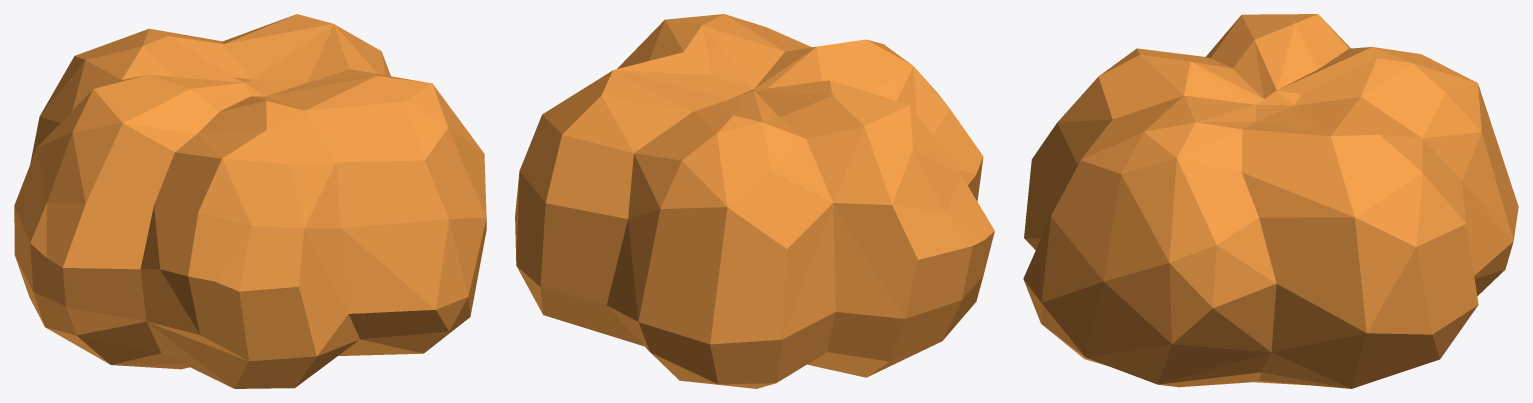
The model's file is pumpkin.fbx.
3 renders of one model, left to right at view 1: azimuth 30°, elevation 25°; view 2: azimuth 150°, elevation 25°; view 3: azimuth 270°, elevation 25°, orthographic. The views are drawn at different scales.
Visible parts, largest first — view 1: pumpkin; view 2: pumpkin; view 3: pumpkin.
Part boxes in pixels (x1,y1,x2,y2): pumpkin: [14, 14, 486, 388]; pumpkin: [515, 14, 994, 388]; pumpkin: [1023, 14, 1518, 388].
Size of the model in its own units: 71.74 by 46.67 by 72.48.
